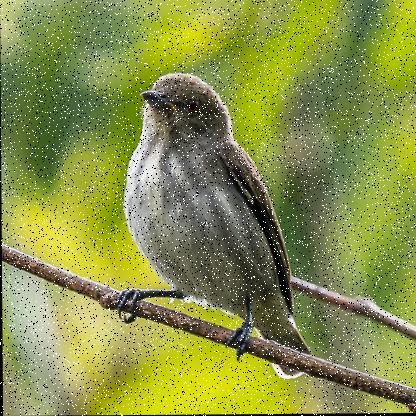Burung: (123, 68, 318, 378)
